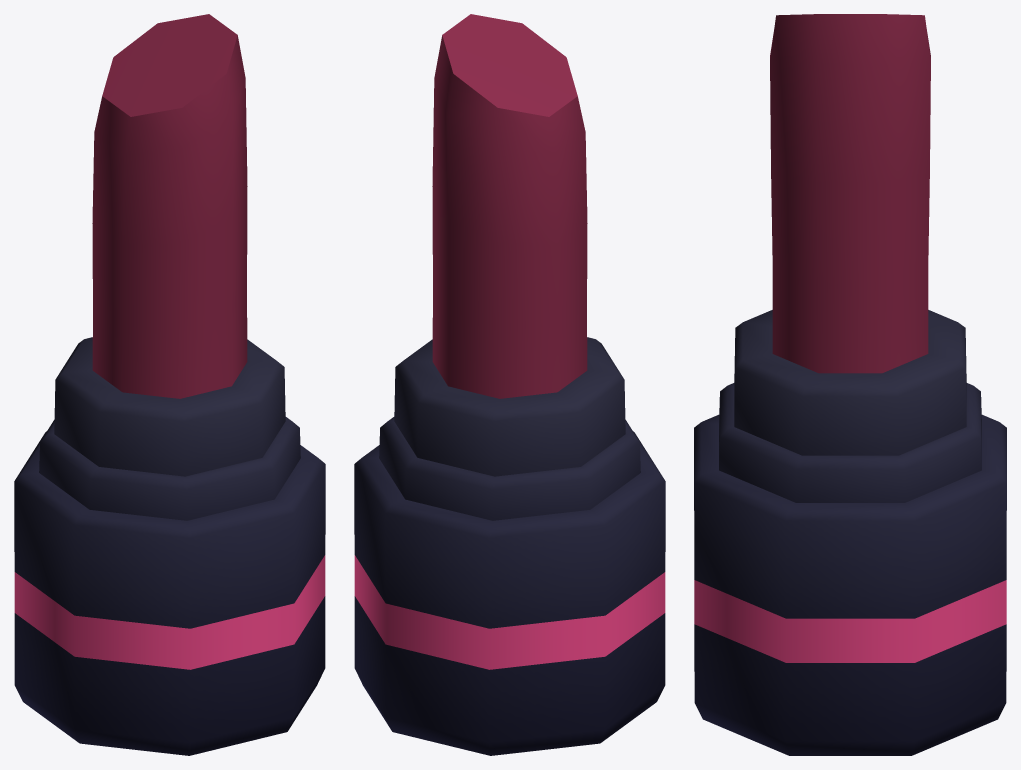
Rendered from Lipstick_01.fbx.
3 renders of one model, left to right at view 1: azimuth 30°, elevation 25°; view 2: azimuth 150°, elevation 25°; view 3: azimuth 270°, elevation 25°, orthographic. The views are drawn at different scales.
Parts seen in each view (by area): view 1: Lipstick_01; view 2: Lipstick_01; view 3: Lipstick_01.
Boxes of the visible parts, bbox=[...] form: Lipstick_01: bbox=[14, 14, 325, 755]; Lipstick_01: bbox=[354, 14, 665, 755]; Lipstick_01: bbox=[694, 14, 1006, 755].
Bounding box in the file's own units: 0.0431 × 0.109 × 0.0431.
1 material, 1 textured.
